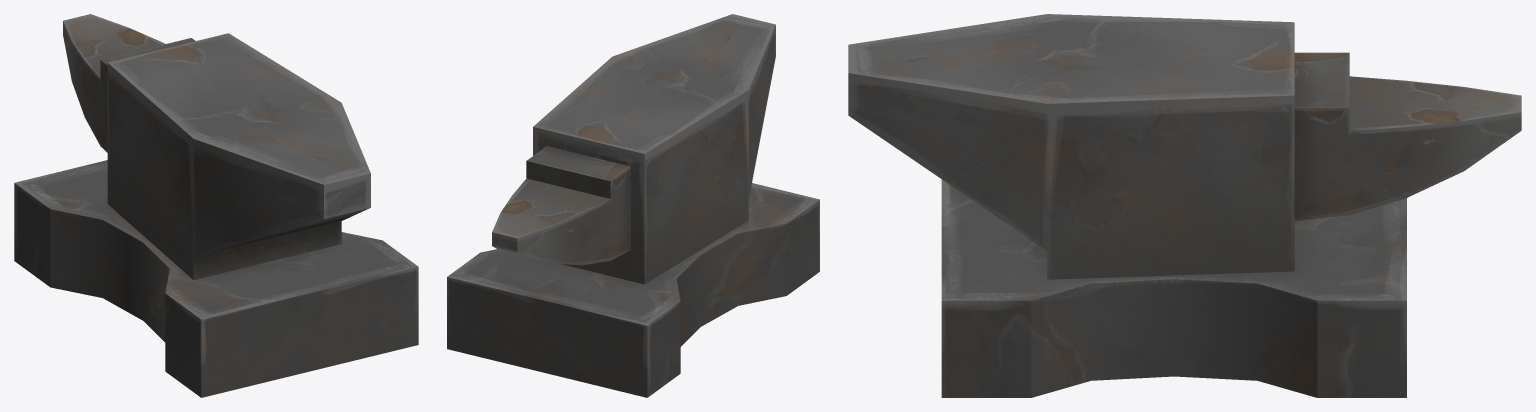
Rendered from Anvil.FBX.
The picture shows the model from 3 angles, left to right: view 1: azimuth 30°, elevation 25°; view 2: azimuth 150°, elevation 25°; view 3: azimuth 270°, elevation 25°; orthographic projection. The views are drawn at different scales.
Visible parts, largest first — view 1: Anvil; view 2: Anvil; view 3: Anvil.
Boxes of the visible parts, x1,y1,x2,y2 form: Anvil: (14, 14, 418, 397); Anvil: (447, 14, 819, 397); Anvil: (848, 14, 1521, 397).
Size of the model in its own units: 1.18 by 1.14 by 2.55.
